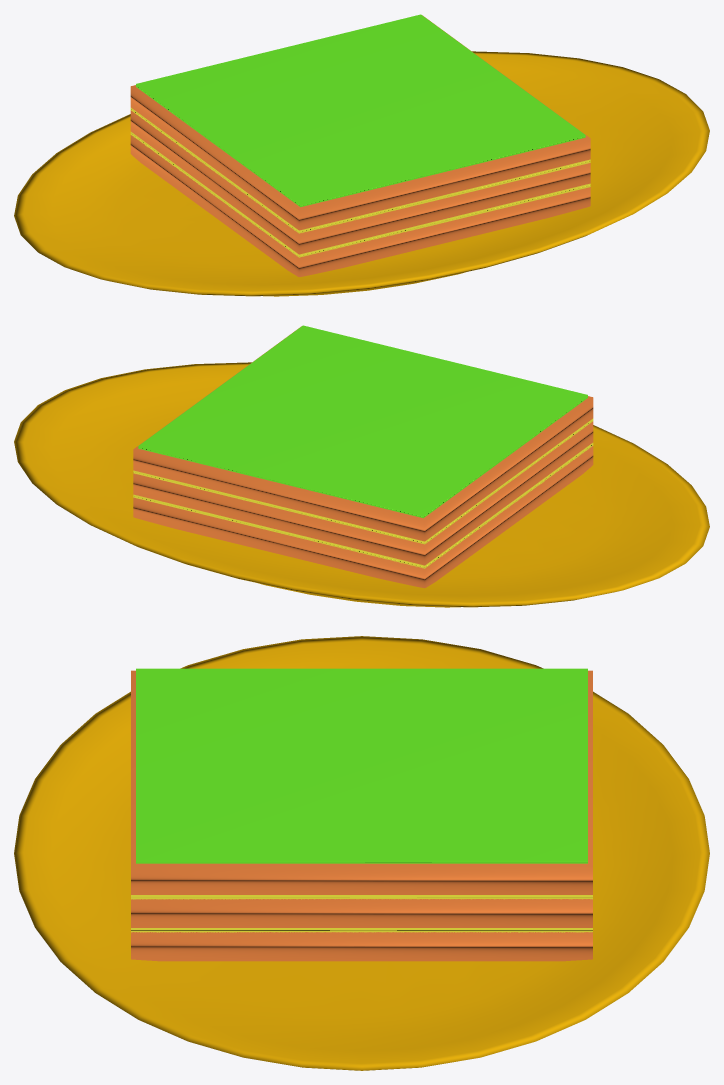
The model's file is kue lapis legit.fbx.
3 renders of one model, top to bottom at view 1: azimuth 30°, elevation 25°; view 2: azimuth 150°, elevation 25°; view 3: azimuth 270°, elevation 25°, orthographic. The views are drawn at different scales.
Parts seen in each view (by area): view 1: Cylinder_Cylinder.001, Cube.005, Cube.004, Cube.002, Cube, Cube.006, Cube.007; view 2: Cylinder_Cylinder.001, Cube.005, Cube.004, Cube.002, Cube, Cube.006, Cube.007; view 3: Cylinder_Cylinder.001, Cube.005, Cube.004, Cube, Cube.002, Cube.006, Cube.007.
Part boxes in pixels (x1,y1,x2,y2): Cylinder_Cylinder.001: (14,51,709,296); Cube.005: (136,14,585,207); Cube.004: (130,15,590,230); Cube.002: (130,110,590,254); Cube: (130,135,590,277); Cube.006: (130,132,590,257); Cube.007: (130,107,590,233); Cylinder_Cylinder.001: (14,362,709,607); Cube.005: (138,325,587,518); Cube.004: (133,326,593,541); Cube.002: (133,421,593,565); Cube: (133,446,593,588); Cube.006: (133,443,593,568); Cube.007: (133,418,593,544); Cylinder_Cylinder.001: (14,636,709,1070); Cube.005: (136,668,587,863); Cube.004: (131,670,592,894); Cube: (131,932,592,961); Cube.002: (131,899,592,927); Cube.006: (131,928,592,932); Cube.007: (131,895,592,899).
Size of the model in its own units: 696 by 98.4 by 471.
